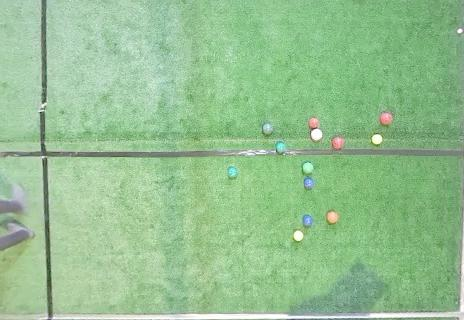blue: (302, 214, 314, 227), (303, 177, 315, 190)
green: (303, 162, 314, 173), (263, 123, 273, 134), (276, 142, 286, 153), (228, 168, 237, 177)
red: (380, 112, 393, 124), (332, 136, 344, 149), (326, 210, 338, 223), (310, 129, 322, 141), (308, 118, 319, 128)
vline: (1, 1, 54, 319), (456, 1, 463, 319)
white: (457, 28, 463, 34)
yellow: (371, 134, 382, 144), (293, 230, 303, 241)
